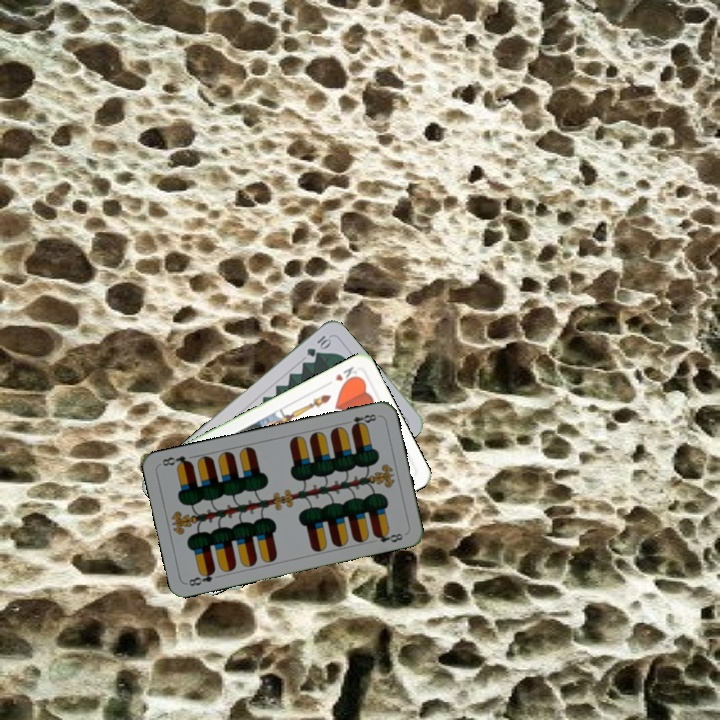E8: (184, 565, 218, 589), (347, 410, 381, 431)
G10: (302, 331, 334, 359)
HK: (331, 362, 362, 387)
